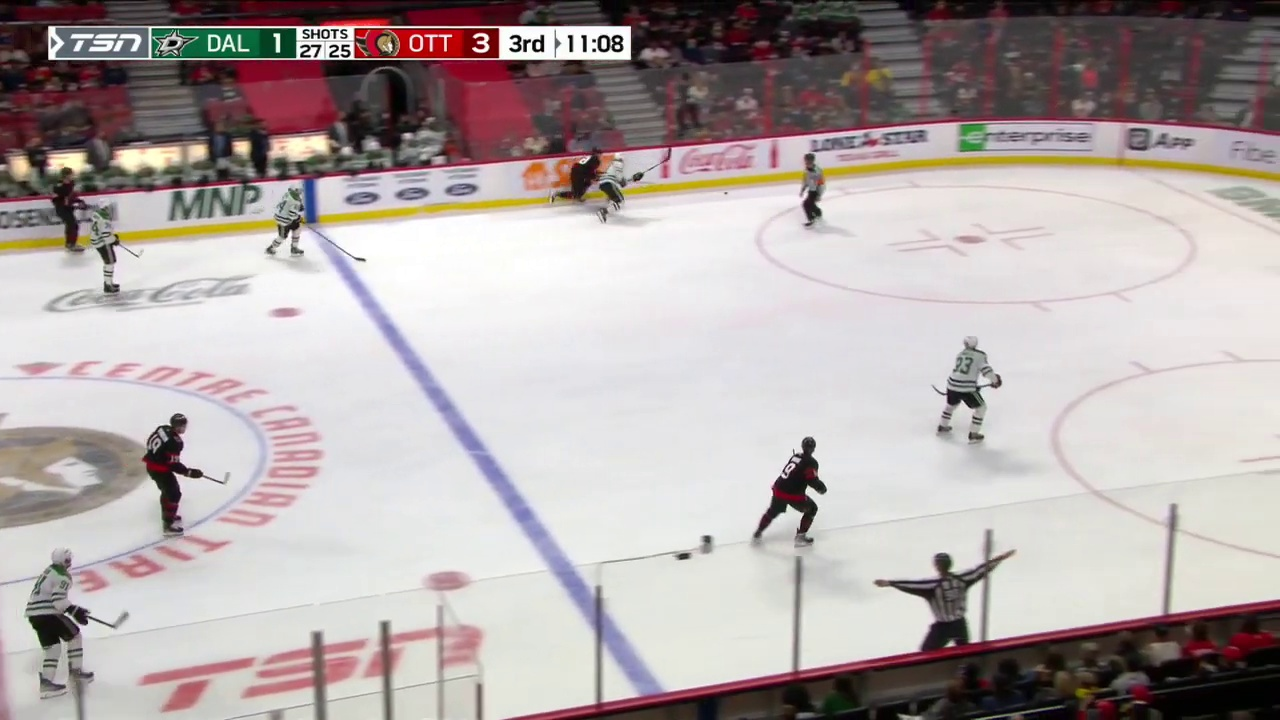hockeyplayer: (23, 547, 95, 700), (753, 437, 827, 549), (142, 413, 204, 537), (936, 335, 1002, 446), (596, 153, 644, 223), (264, 181, 307, 257), (52, 167, 89, 254), (89, 197, 121, 296), (548, 147, 601, 204)
referee: (872, 550, 1017, 651), (799, 153, 825, 229)
